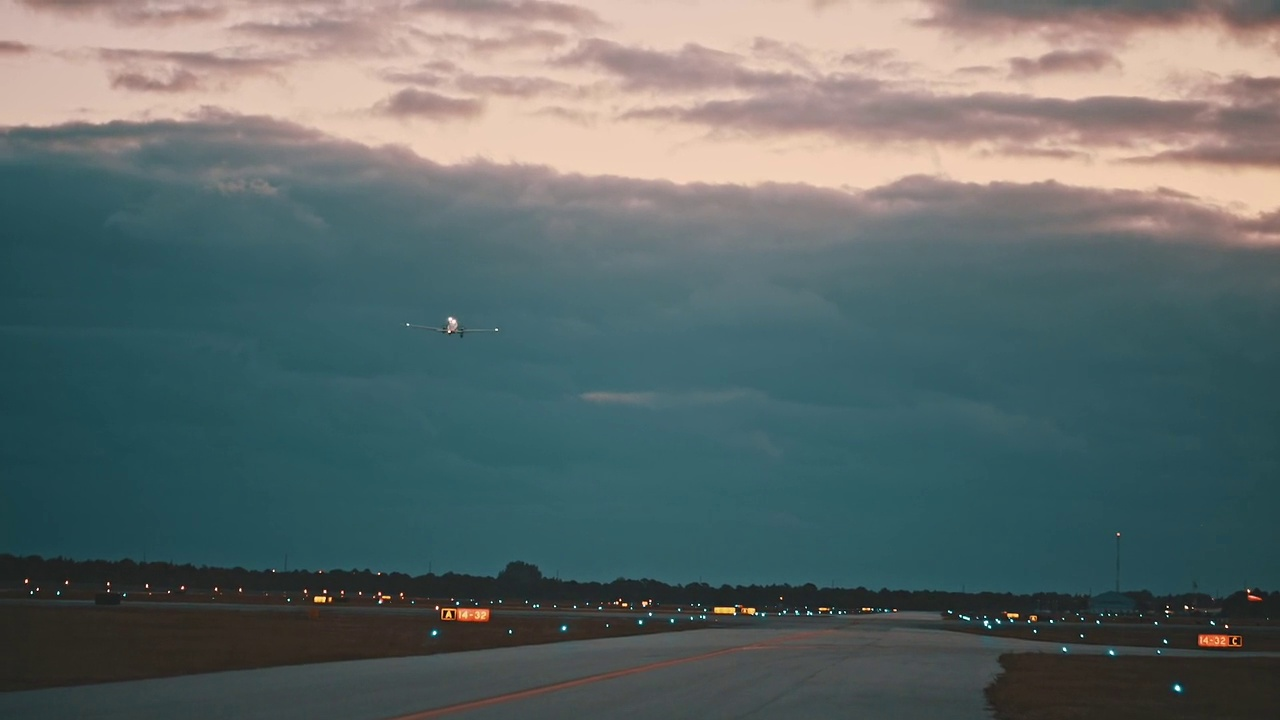plane: (401, 316, 498, 340)
